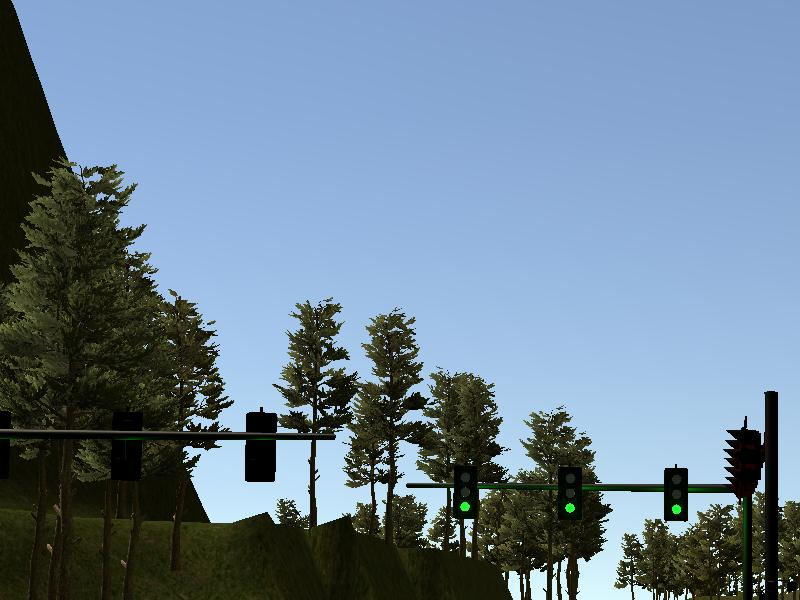Green: (663, 468, 689, 521), (558, 467, 583, 521), (454, 465, 479, 516)
